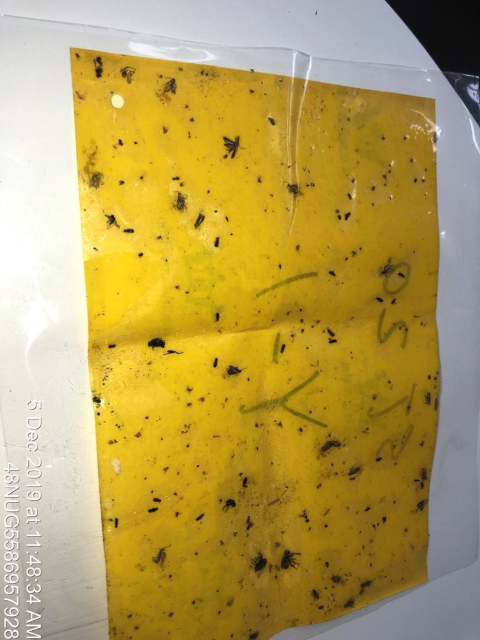DBM: (219, 133, 245, 161), (151, 542, 172, 571), (225, 362, 249, 382), (319, 437, 343, 456), (173, 188, 188, 215), (160, 76, 178, 97), (191, 210, 209, 231), (415, 497, 429, 514), (419, 465, 430, 485)
